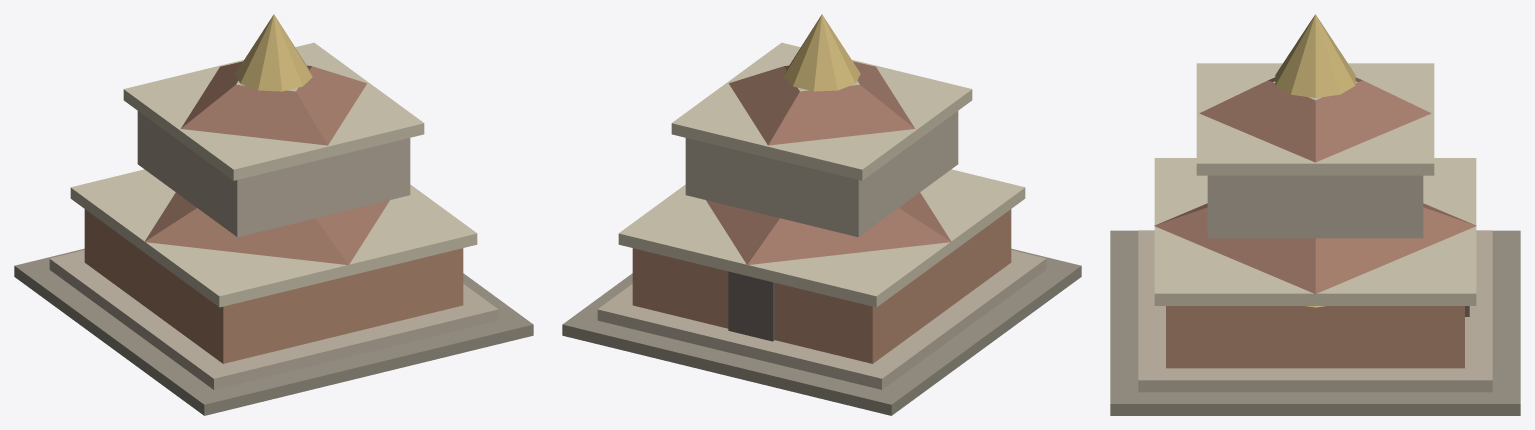
Rendered from dhammayangyi.glb.
3 renders of one model, left to right at view 1: azimuth 30°, elevation 25°; view 2: azimuth 150°, elevation 25°; view 3: azimuth 270°, elevation 25°, orthographic. The views are drawn at different scales.
Bounding box in the file's own units: 3.7 × 3.14 × 3.7.
